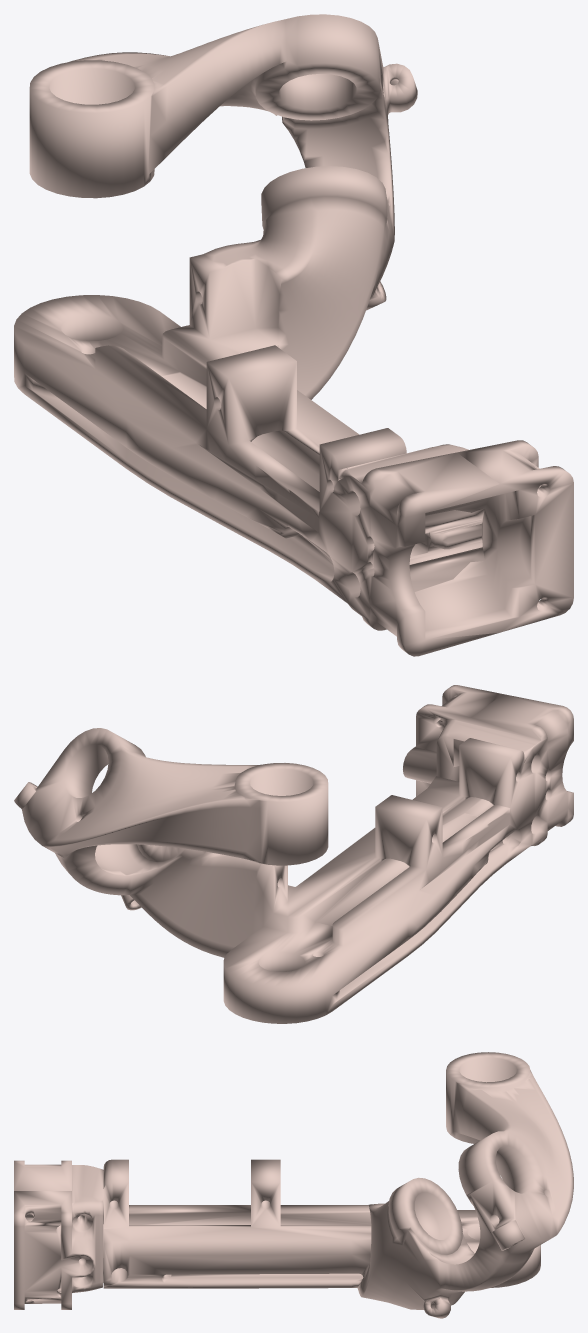
The model's file is middle_bulk_1.obj.
The picture shows the model from 3 angles, top to bottom: view 1: azimuth 30°, elevation 25°; view 2: azimuth 150°, elevation 25°; view 3: azimuth 270°, elevation 25°; orthographic projection. The views are drawn at different scales.
Size of the model in its own units: 60.16 by 45.09 by 106.
